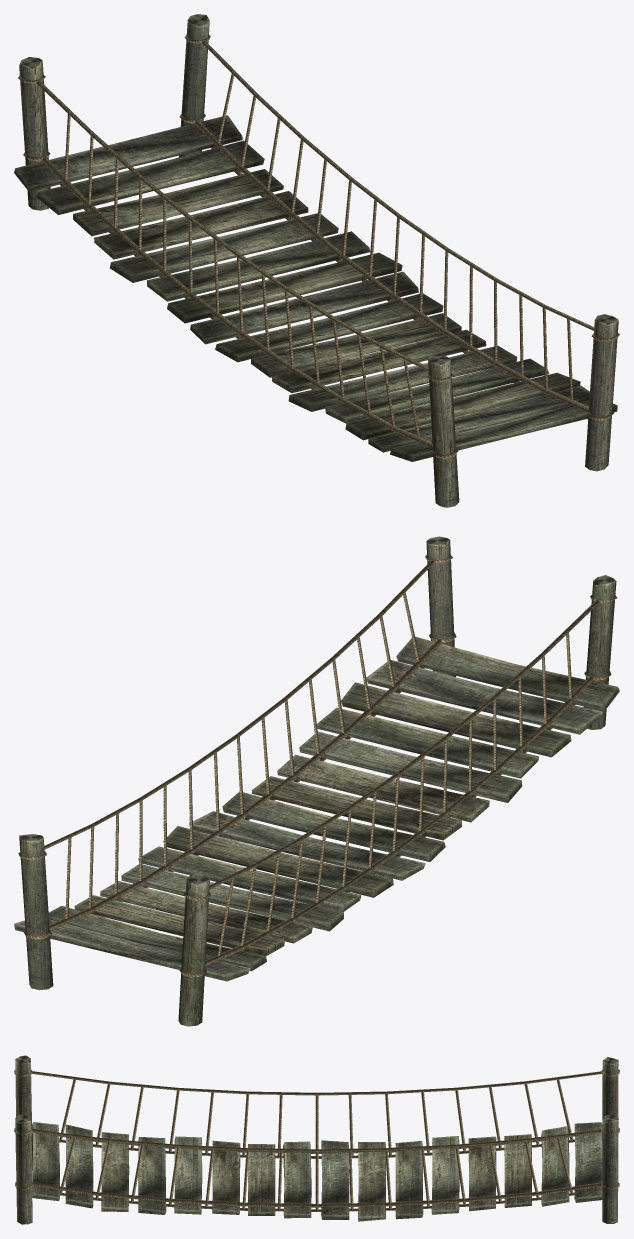
Rendered from ropebridge.fbx.
The picture shows the model from 3 angles, top to bottom: view 1: azimuth 30°, elevation 25°; view 2: azimuth 150°, elevation 25°; view 3: azimuth 270°, elevation 25°; orthographic projection. The views are drawn at different scales.
Parts seen in each view (by area): view 1: ropebridge; view 2: ropebridge; view 3: ropebridge.
Part boxes in pixels (<box>): ropebridge: <box>14,14,619,507</box>; ropebridge: <box>14,536,619,1026</box>; ropebridge: <box>14,1055,619,1224</box>.
Bounding box in the file's own units: 342 × 216 × 1113.
